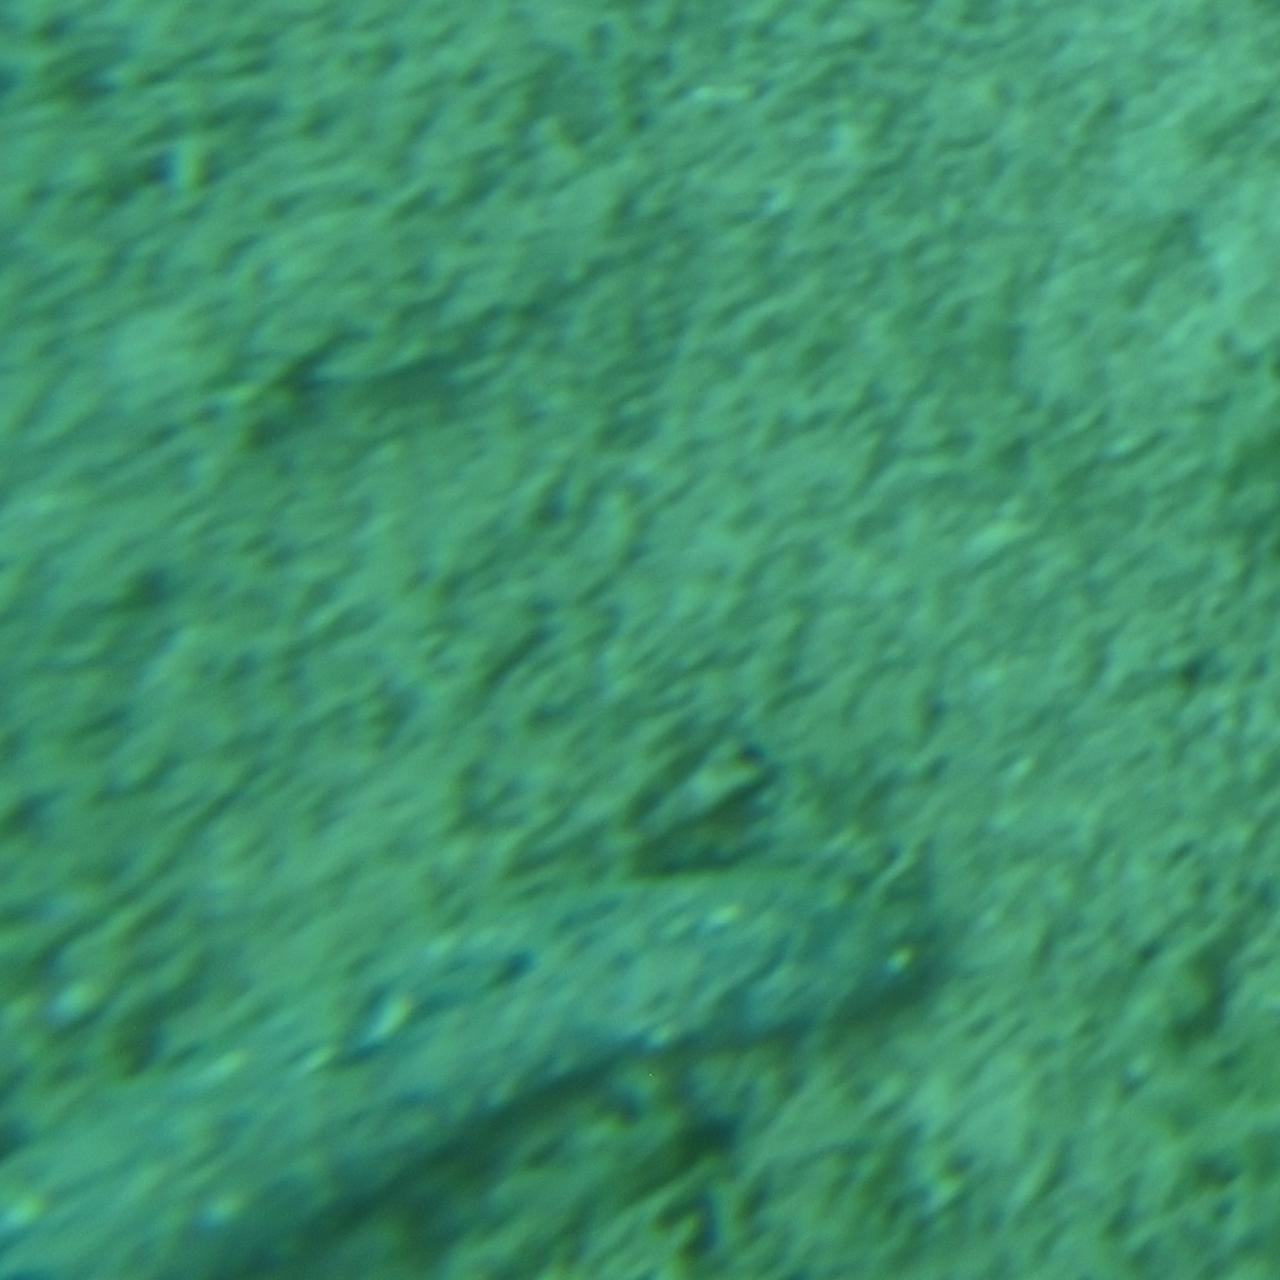Holothuria tubulosa: (0, 852, 962, 1280)
